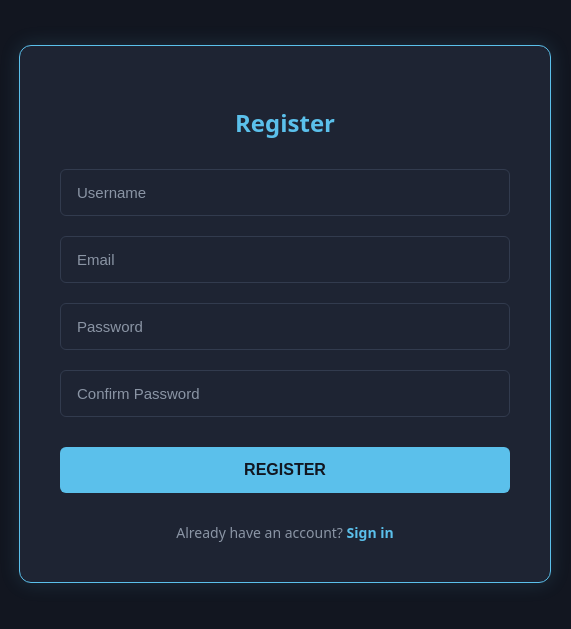
it: Register Component Validation › shows error for weak password
Note: Test the complexity requirement (8+ chars, upper, lower, number)
Type "ValidUser" into the field with placeholder "Username".
click(285, 192); type("ValidUser")  # box [60,169,510,216]
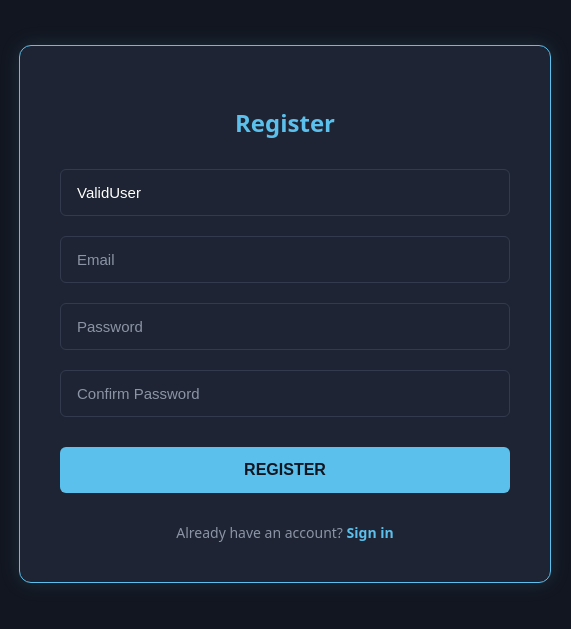
Type "test@wisc.edu" into the field with placeholder "Email".
click(285, 260); type("test@wisc.edu")  # box [60,236,510,283]
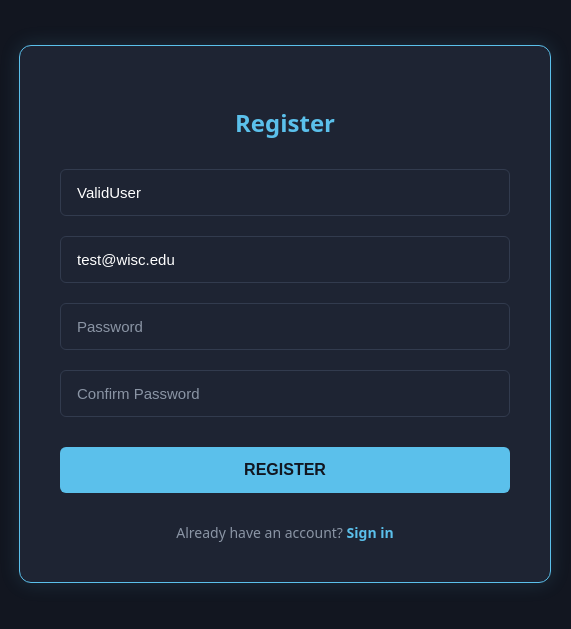
Type "12345" into the password field with placeholder "Password".
click(285, 326); type("12345")  # box [60,303,510,350]
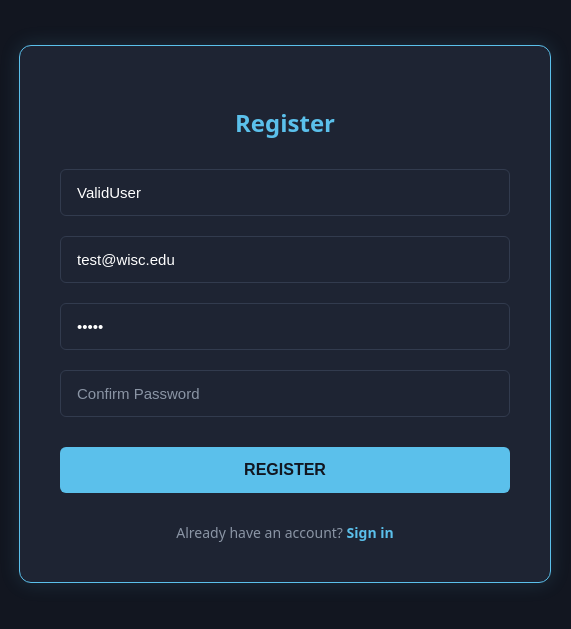
Type "12345" into the password field with placeholder "Confirm Password".
click(285, 394); type("12345")  # box [60,370,510,417]
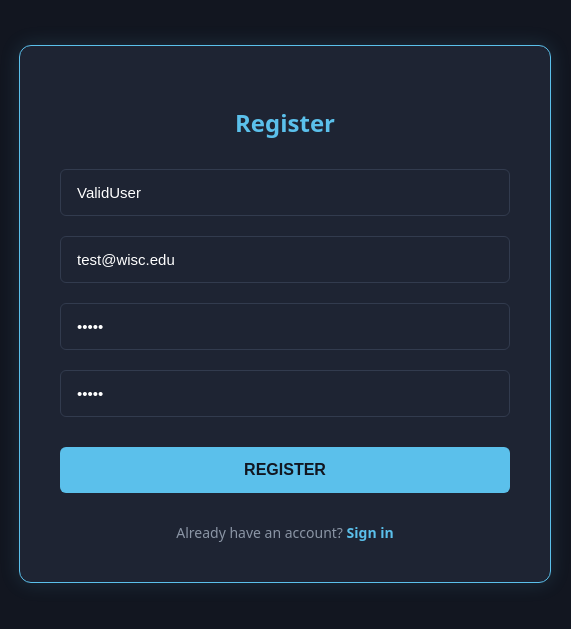
Click the button "REGISTER".
click(285, 470)  # box [60,447,510,493]
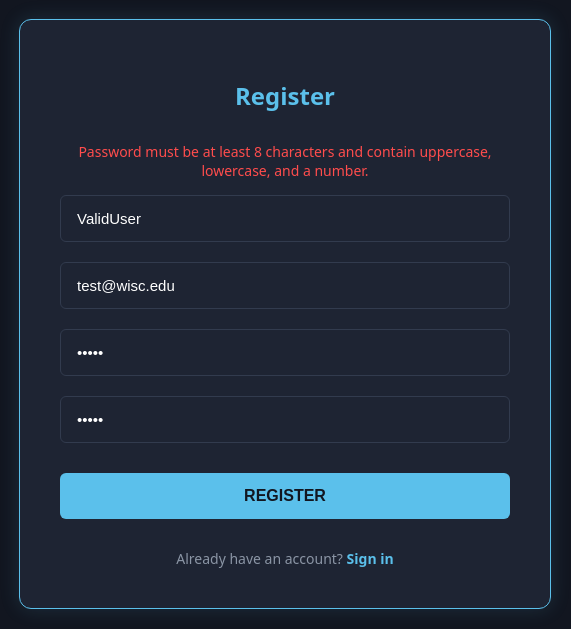
Expected: the text "Password must be at least 8 characters" is shown, [78,142,492,180]
